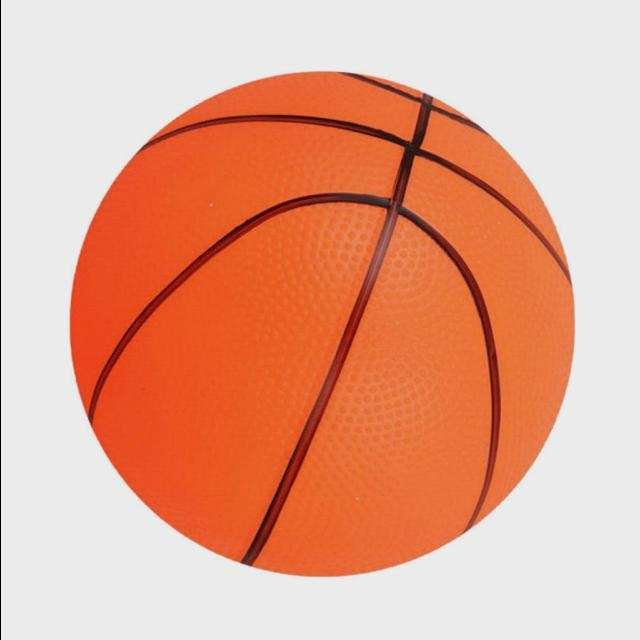agrume: (69, 74, 591, 582)
